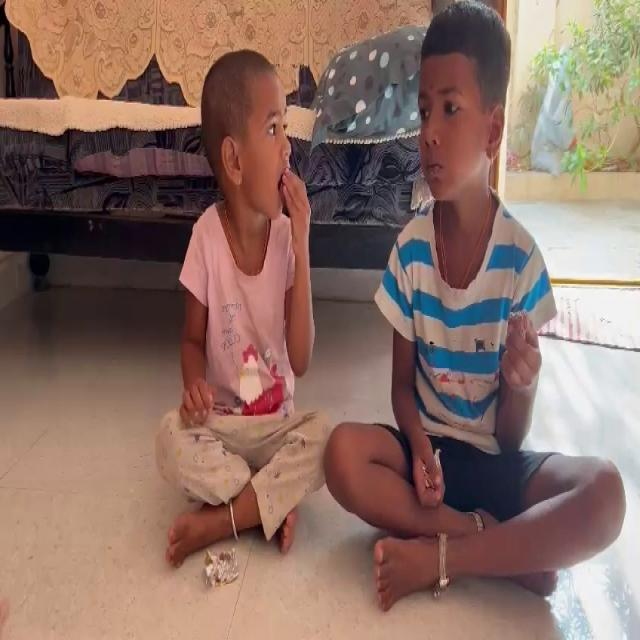child: (367, 20, 563, 600), (147, 32, 342, 571)
